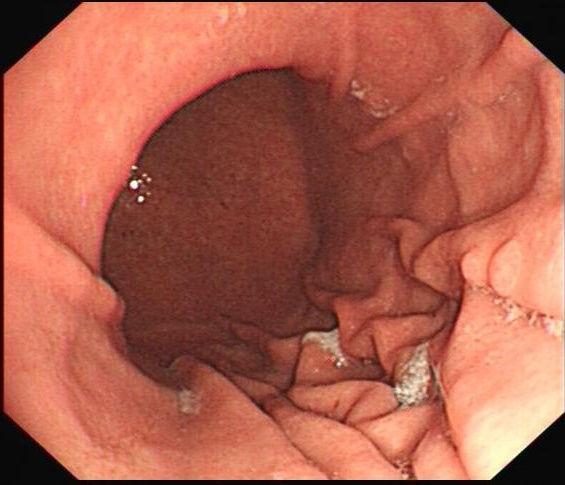Polyp: (455, 234, 536, 299)
